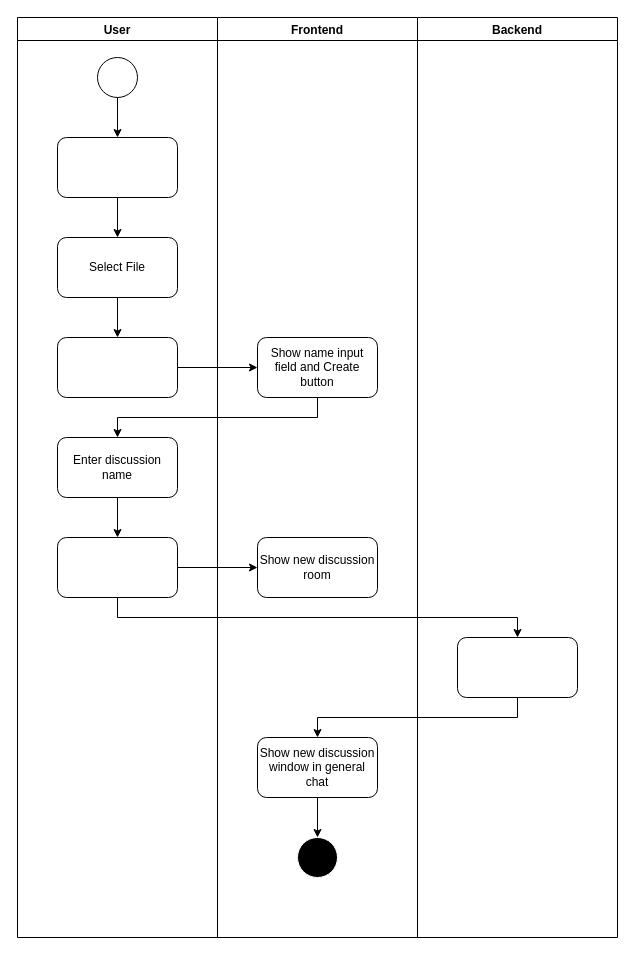
Some shapes in this 635 by 955 pixel diagram are drawn without their labels. Here are the shapes that lost their labels. From the top down, the centre of each, then its label:
(x=117, y=167): Is in group chat
(x=117, y=367): Press "Add Discussion" button on File
(x=117, y=567): Press "Create" button
(x=517, y=667): Create discussion for all Users
